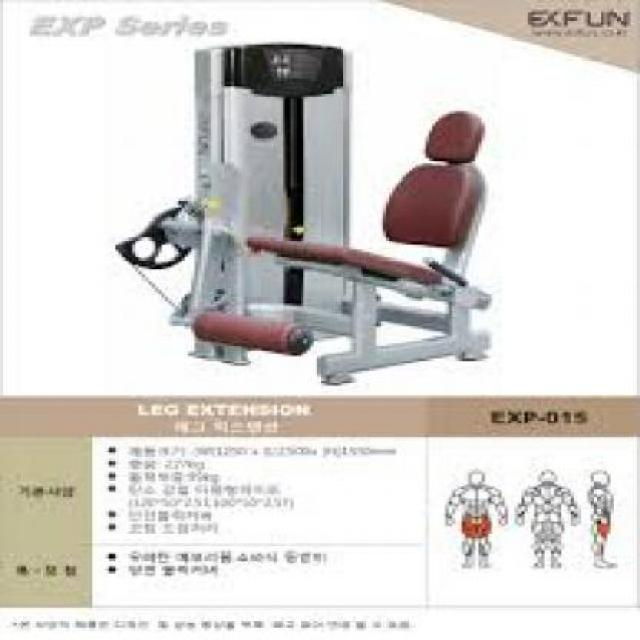leg extension: (101, 25, 544, 397)
